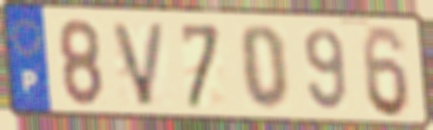0: (237, 21, 293, 113)
6: (359, 21, 413, 120)
7: (179, 22, 223, 110)
8: (56, 16, 107, 108)
9: (302, 26, 348, 113)
V: (109, 19, 170, 109)
